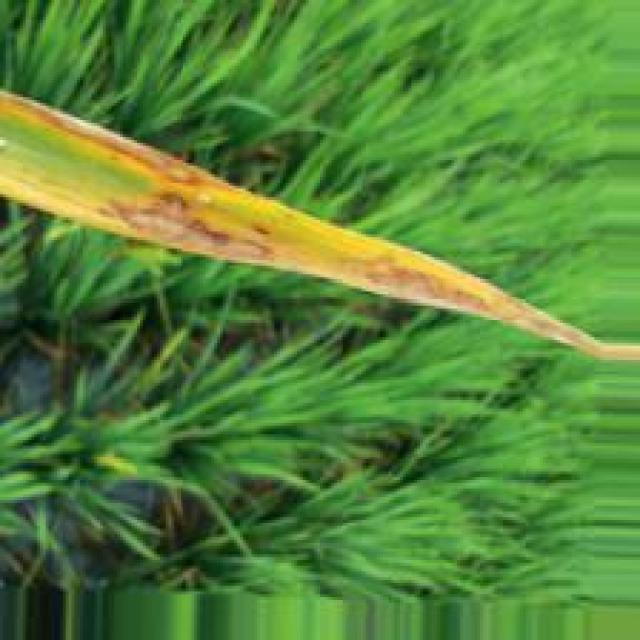Bacterial_Leaf_Blight: (0, 90, 277, 212), (95, 191, 277, 266), (346, 252, 499, 320), (251, 224, 277, 238)
